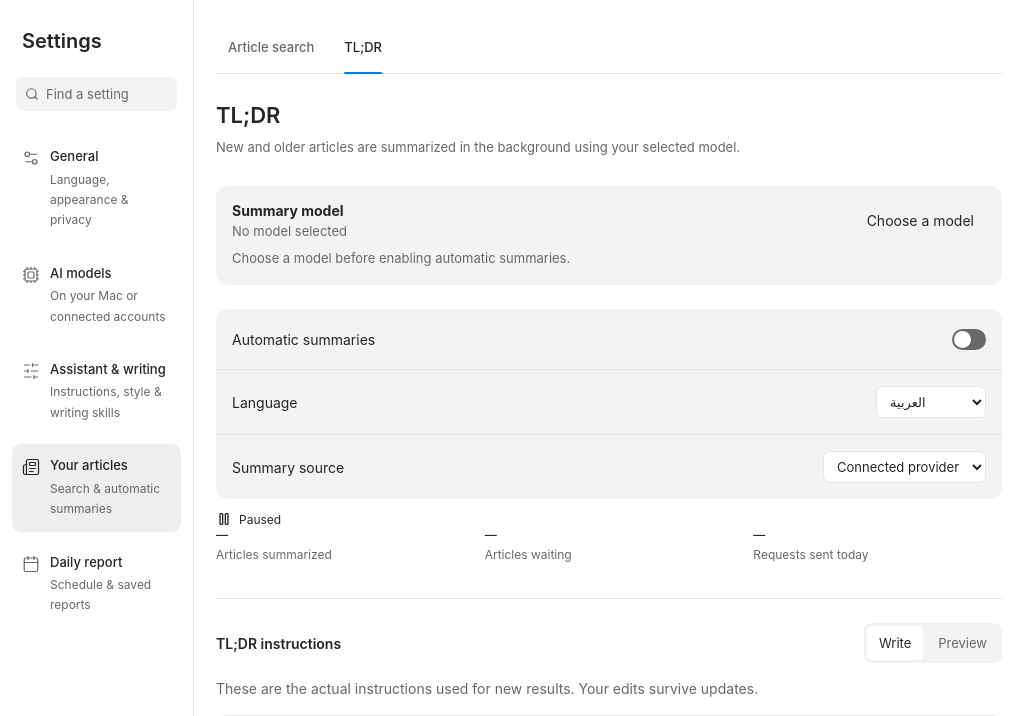
Test case: guides missing explanation models to account setup without attempting to enable them
Expected: the checkbox labelled "Automatic summaries" is disabled, [952,329,986,350]
Expected: the text "Choose a model before enabling automatic summaries." is shown, [232,250,570,266]
What coordinates should you click on to do the following:
click the button "Choose a model"
I would click on:
 (920, 221)
Its box is [855,204,986,238].
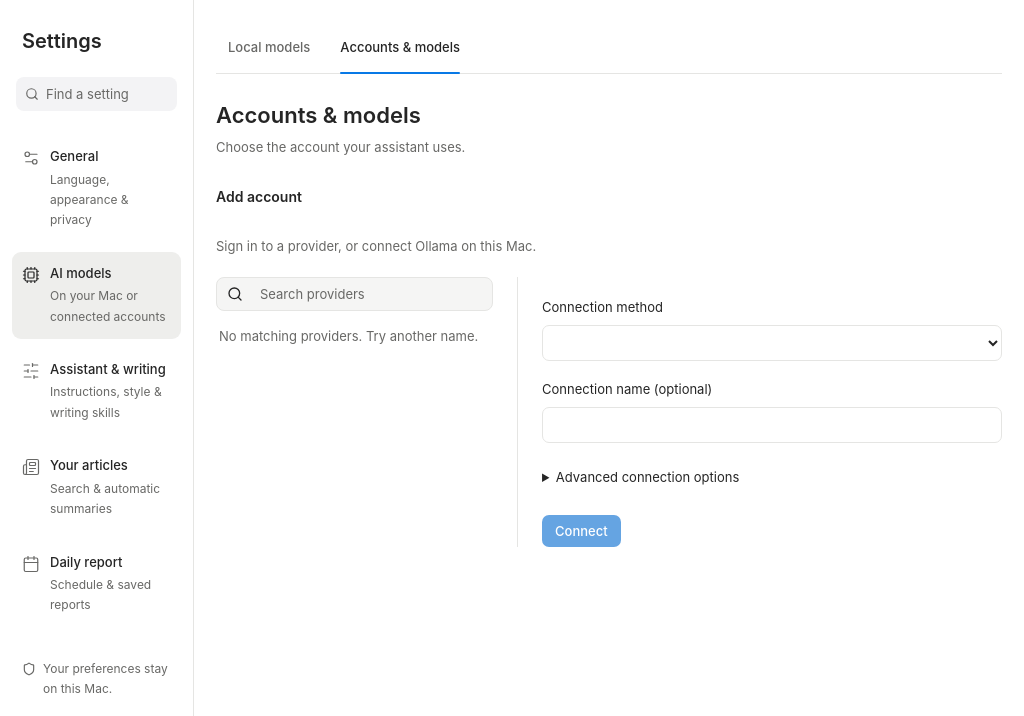
Expected: the heading "Accounts & models" is shown, [216,102,421,128]
